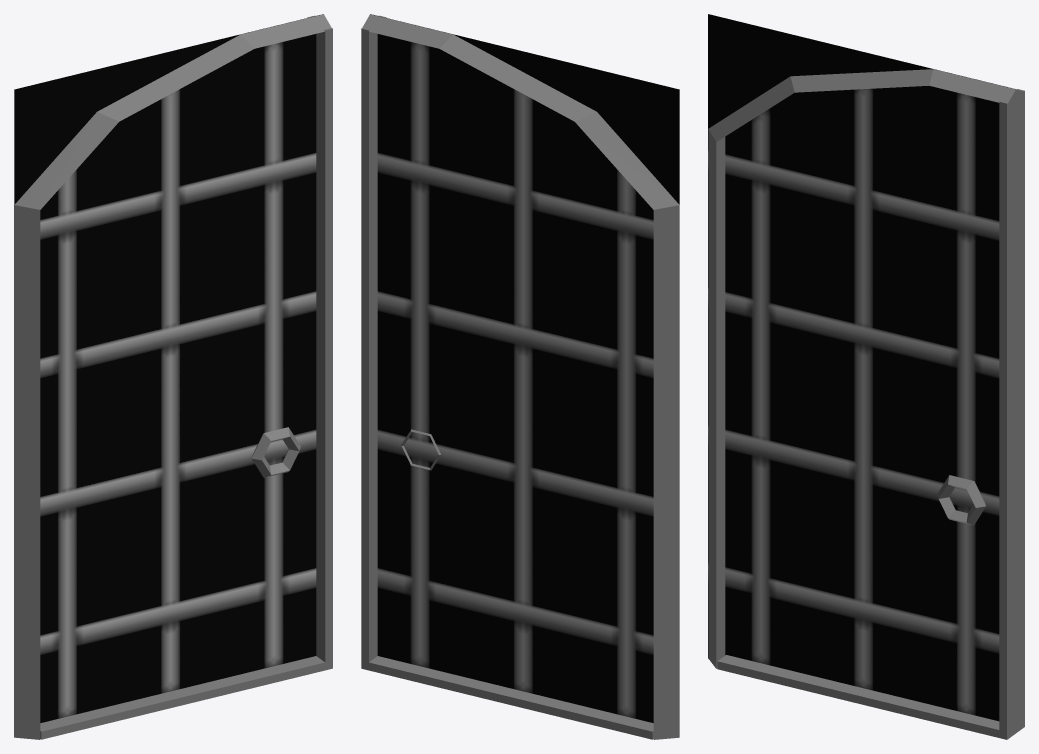
File: gate2.obj
The picture shows the model from 3 angles, left to right: view 1: azimuth 30°, elevation 25°; view 2: azimuth 150°, elevation 25°; view 3: azimuth 330°, elevation 25°; orthographic projection.
Visible parts, largest first — view 1: Object.1, Object.4, Object.3, Object.5, Object.2; view 2: Object.1, Object.4, Object.3, Object.5; view 3: Object.1, Object.3, Object.4, Object.5, Object.2.
Part boxes in pixels (x1=…): Object.1: x1=14, y1=14, x2=323, y2=722; Object.4: x1=14, y1=14, x2=331, y2=739; Object.3: x1=307, y1=15, x2=332, y2=662; Object.5: x1=40, y1=656, x2=332, y2=739; Object.2: x1=251, y1=427, x2=300, y2=477; Object.1: x1=370, y1=14, x2=679, y2=722; Object.4: x1=362, y1=14, x2=679, y2=739; Object.3: x1=361, y1=15, x2=386, y2=662; Object.5: x1=361, y1=656, x2=653, y2=739; Object.1: x1=708, y1=14, x2=1015, y2=721; Object.3: x1=999, y1=89, x2=1024, y2=731; Object.4: x1=708, y1=69, x2=1024, y2=668; Object.5: x1=717, y1=655, x2=1024, y2=739; Object.2: x1=937, y1=475, x2=986, y2=525.
Bounding box in the file's own units: 1 × 2 × 0.1.
